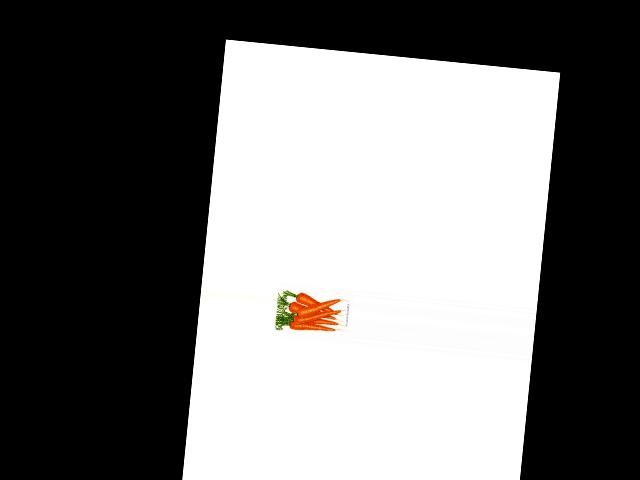carrot: (292, 310, 346, 328)
